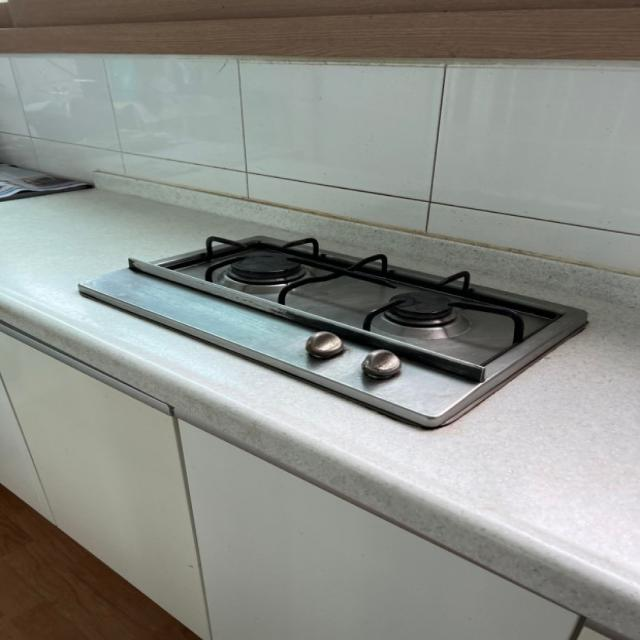knob_OFF: (352, 262, 529, 370), (173, 209, 350, 311)
